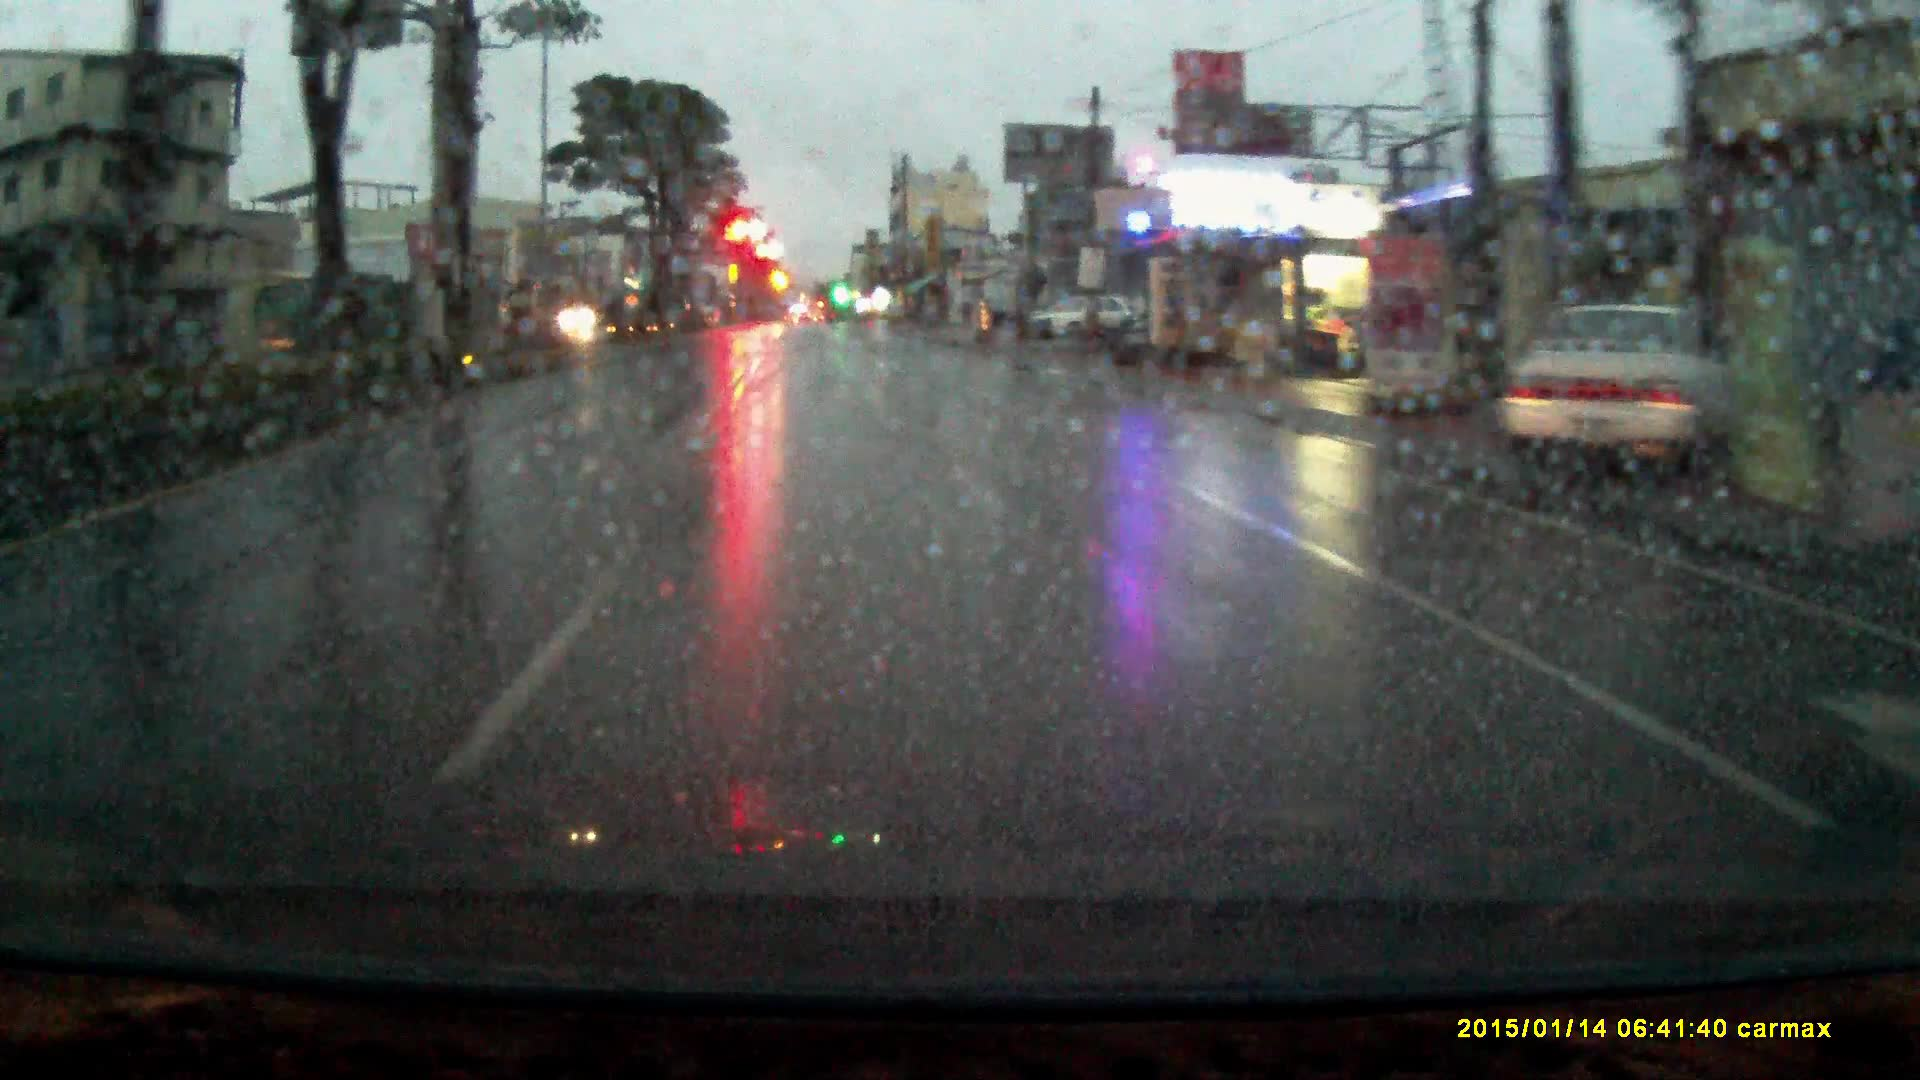vehicle: (1494, 290, 1746, 475), (1033, 289, 1135, 338), (559, 298, 605, 331)
